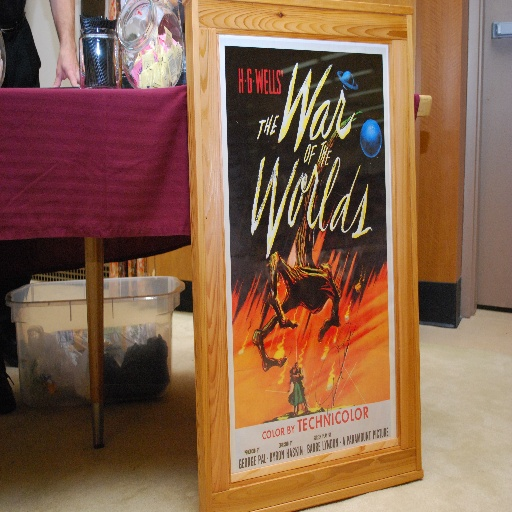hand: (39, 13, 75, 76)
